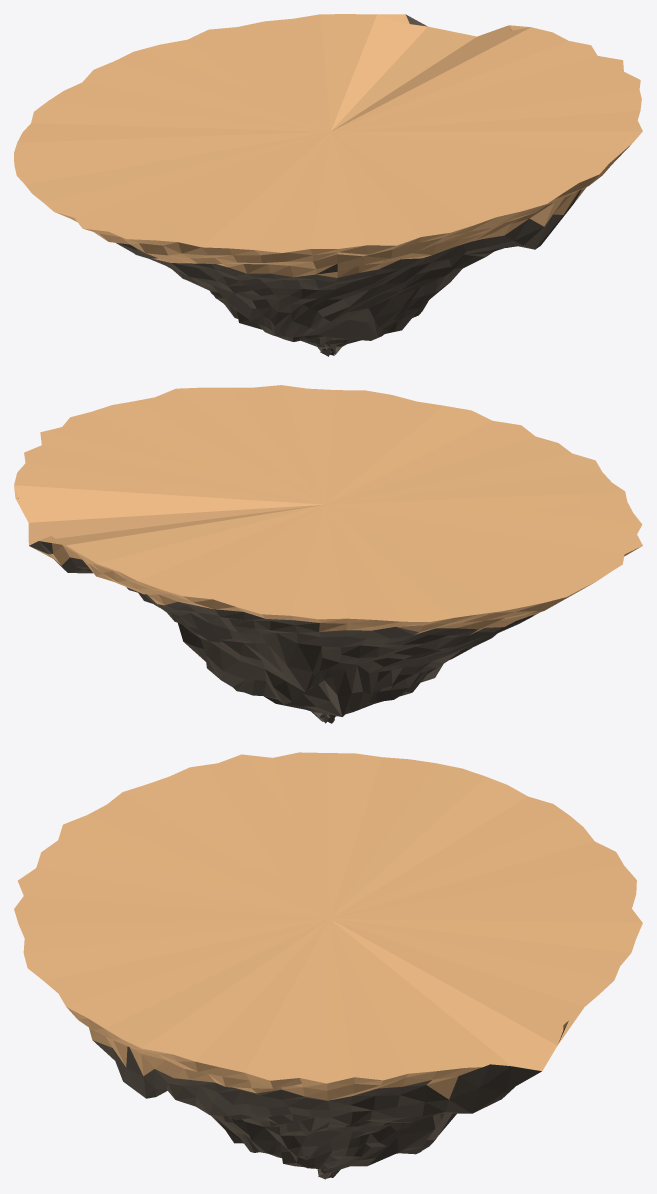
The model's file is desert_island_2.fbx.
3 views of the same model, one above another, from view 1: azimuth 30°, elevation 25°; view 2: azimuth 150°, elevation 25°; view 3: azimuth 270°, elevation 25° (orthographic). The views are drawn at different scales.
Visible parts, largest first — view 1: Cone_2.002; view 2: Cone_2.002; view 3: Cone_2.002.
Part boxes in pixels (x1=…): Cone_2.002: x1=14, y1=14, x2=642, y2=356; Cone_2.002: x1=14, y1=385, x2=642, y2=723; Cone_2.002: x1=14, y1=752, x2=642, y2=1179.
Size of the model in its own units: 6038 by 2220 by 4823.
